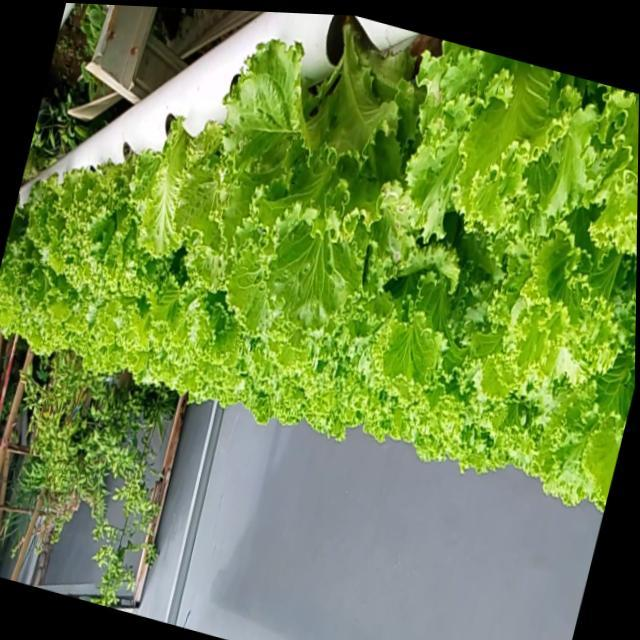Mature: (177, 15, 427, 332), (47, 150, 167, 303)
